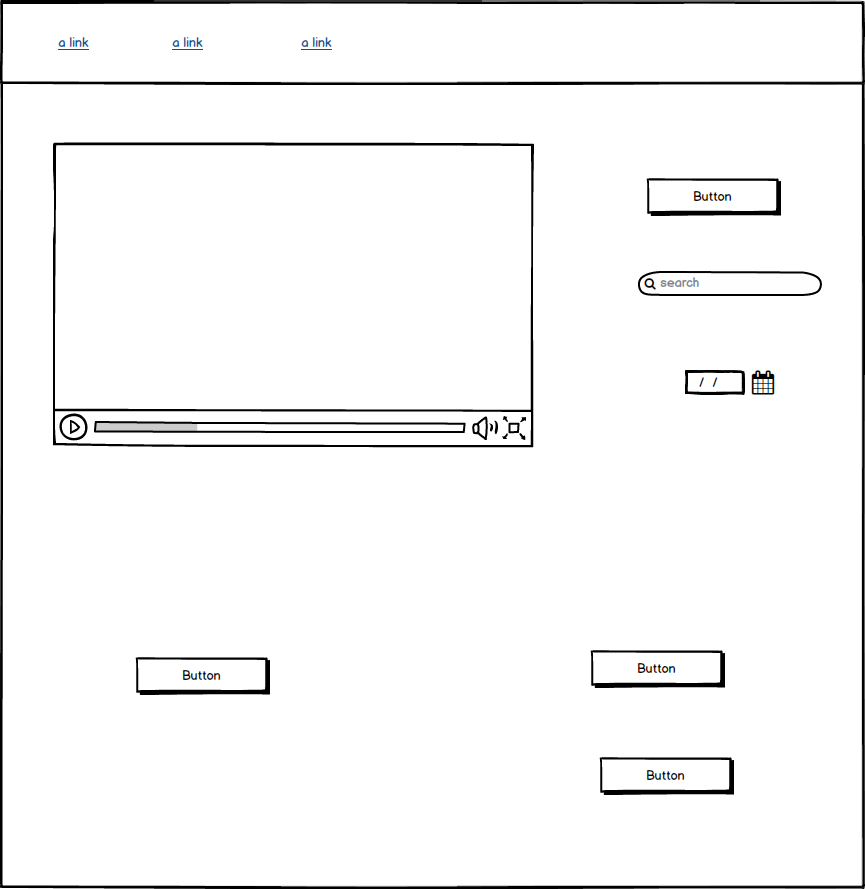button: (129, 647, 274, 702), (583, 644, 732, 694), (595, 751, 741, 802), (643, 173, 787, 224)
date_picker: (676, 361, 778, 405)
navlink: (49, 25, 101, 62), (294, 29, 343, 59), (170, 32, 209, 59)
search: (629, 256, 833, 306)
video: (51, 136, 538, 450)
